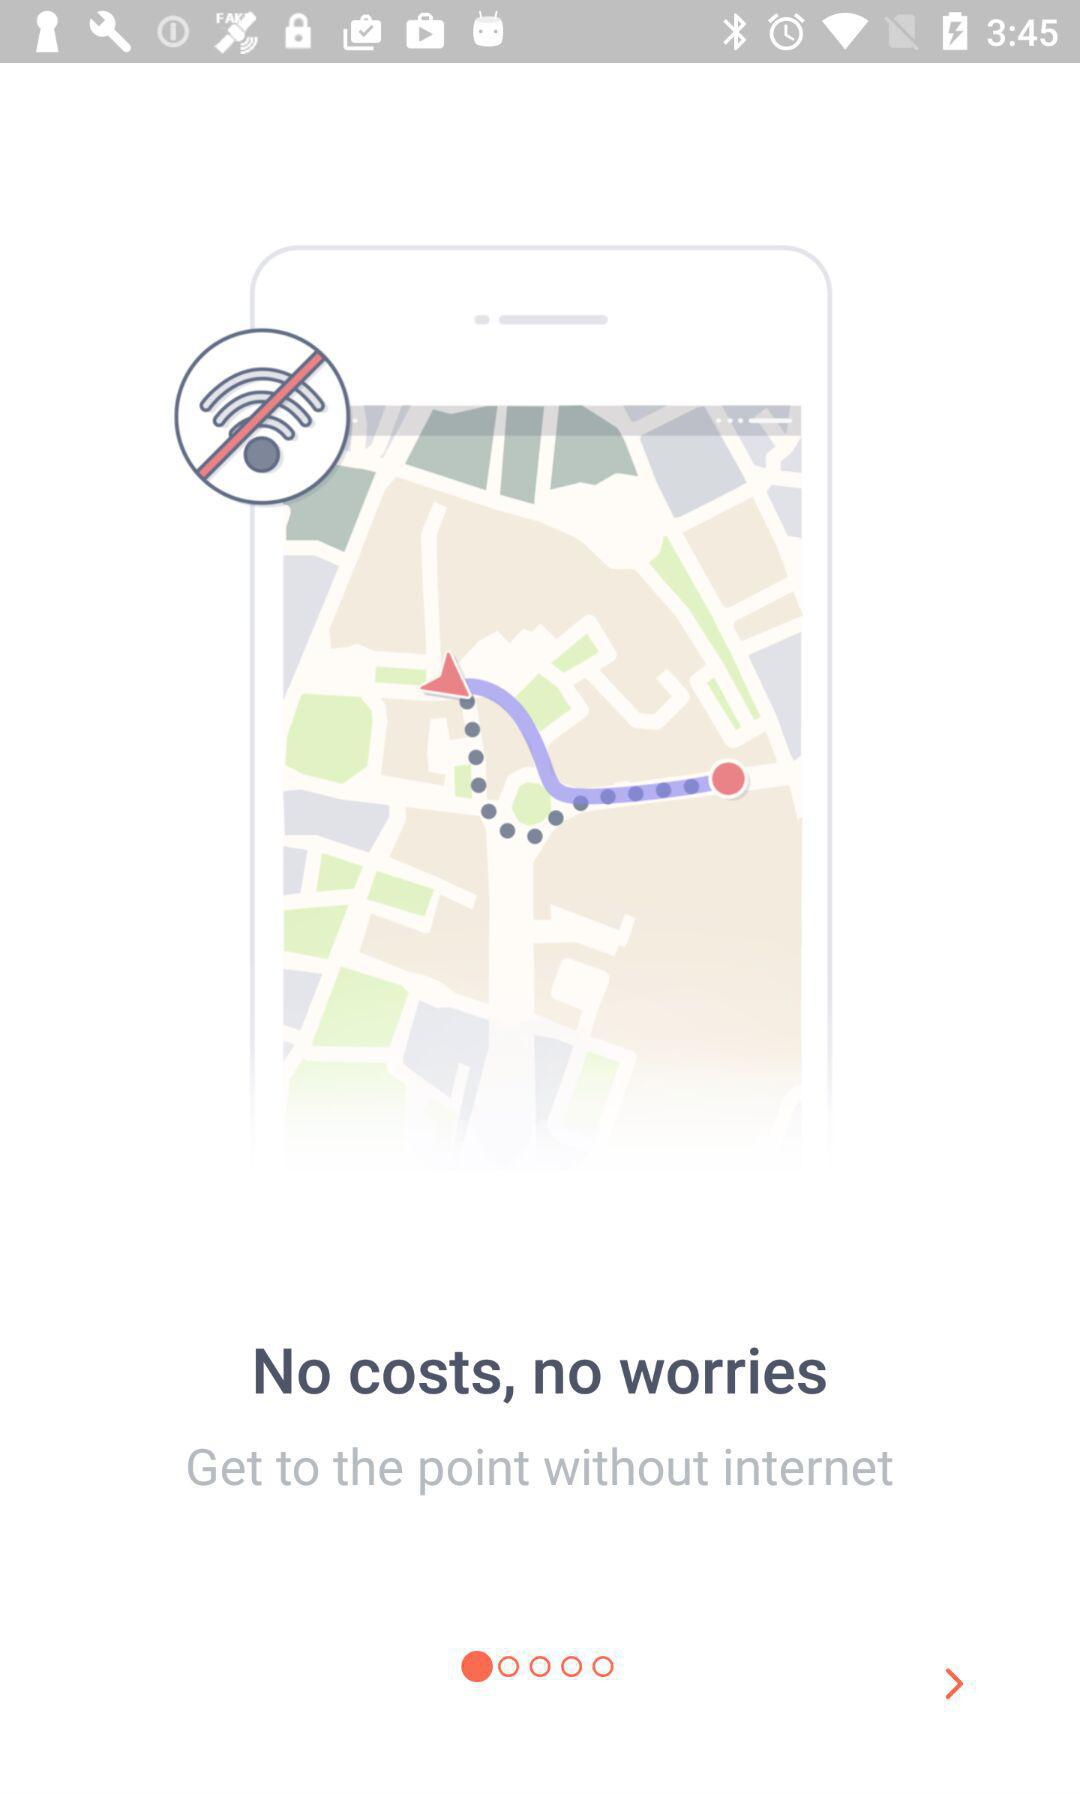Icon: (944, 1666, 963, 1700)
Image: (176, 245, 833, 1174)
PageIndicator: (461, 1649, 616, 1683)
Text: (188, 1447, 894, 1497), (255, 1347, 828, 1404)
UpperTaskBar: (1, 1, 1080, 64)
